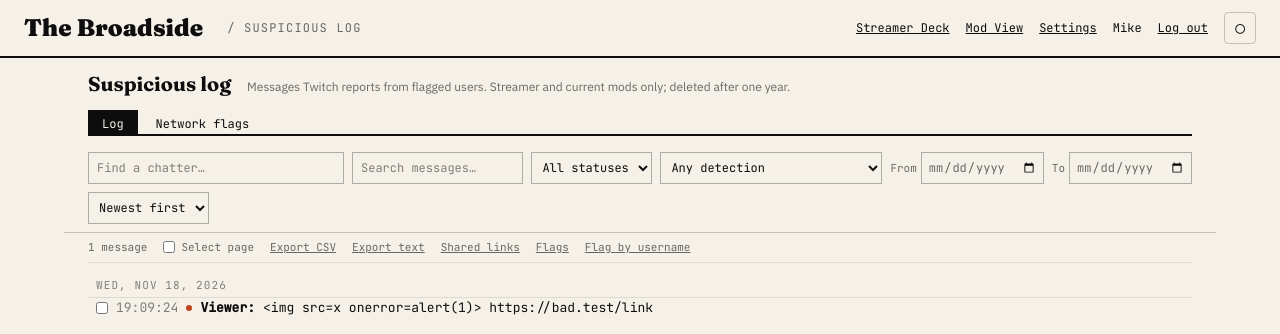
SuspiciousLogView › goes back to everyone when the chatter is cleared
Click the button "Viewer".
click(228, 308)  # box [200,298,255,318]
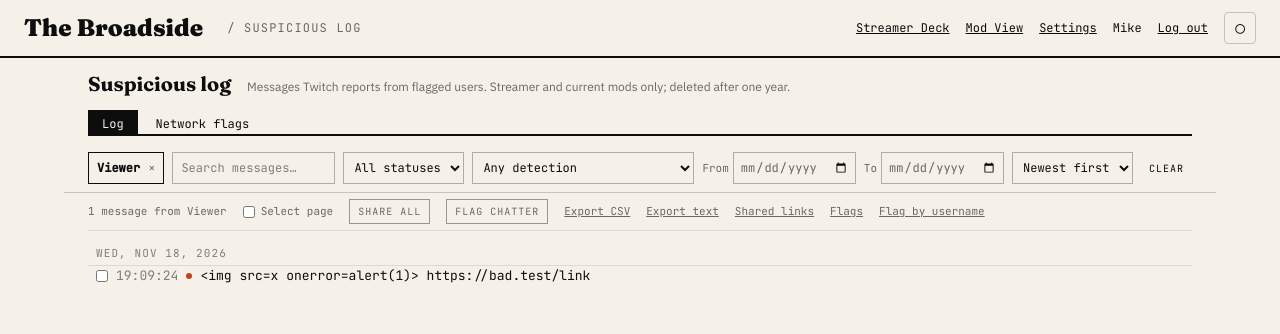
Click the button named "Clear chatter".
click(152, 168)  # box [148,160,155,176]
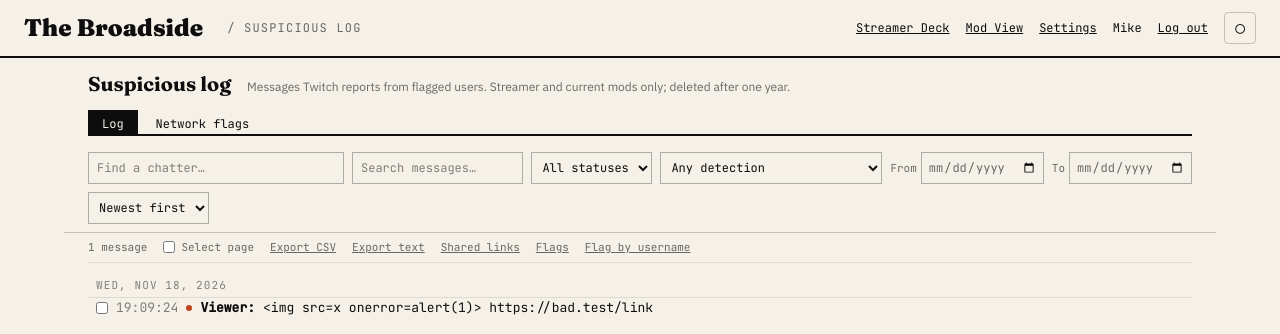
Expected: the button "Viewer" is shown, [200,298,255,318]
Expected: the dropdown labelled "chatter" is shown, [88,152,344,184]
